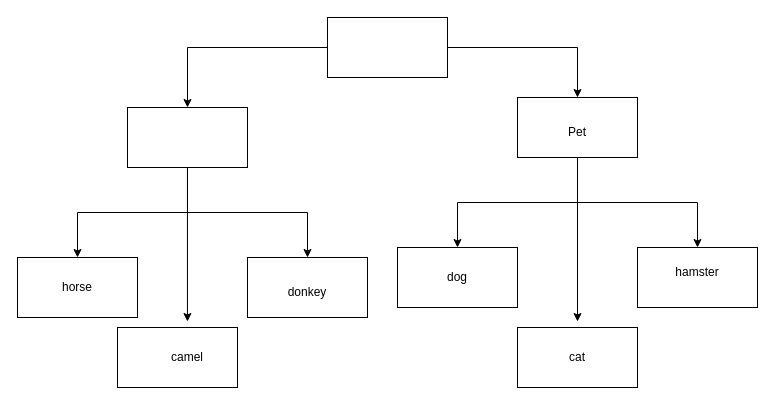
Some shapes in this 775 by 405 pixel diagram are drawn without their labels. Here are the shapes that lost their labels. From the top down, the centre of each, then its label:
At (387,47): "Animals".
At (187,137): "Pack".
